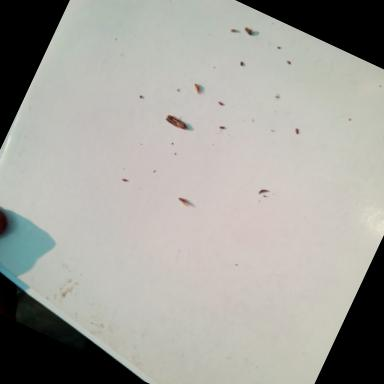pbw: (164, 113, 192, 136)
